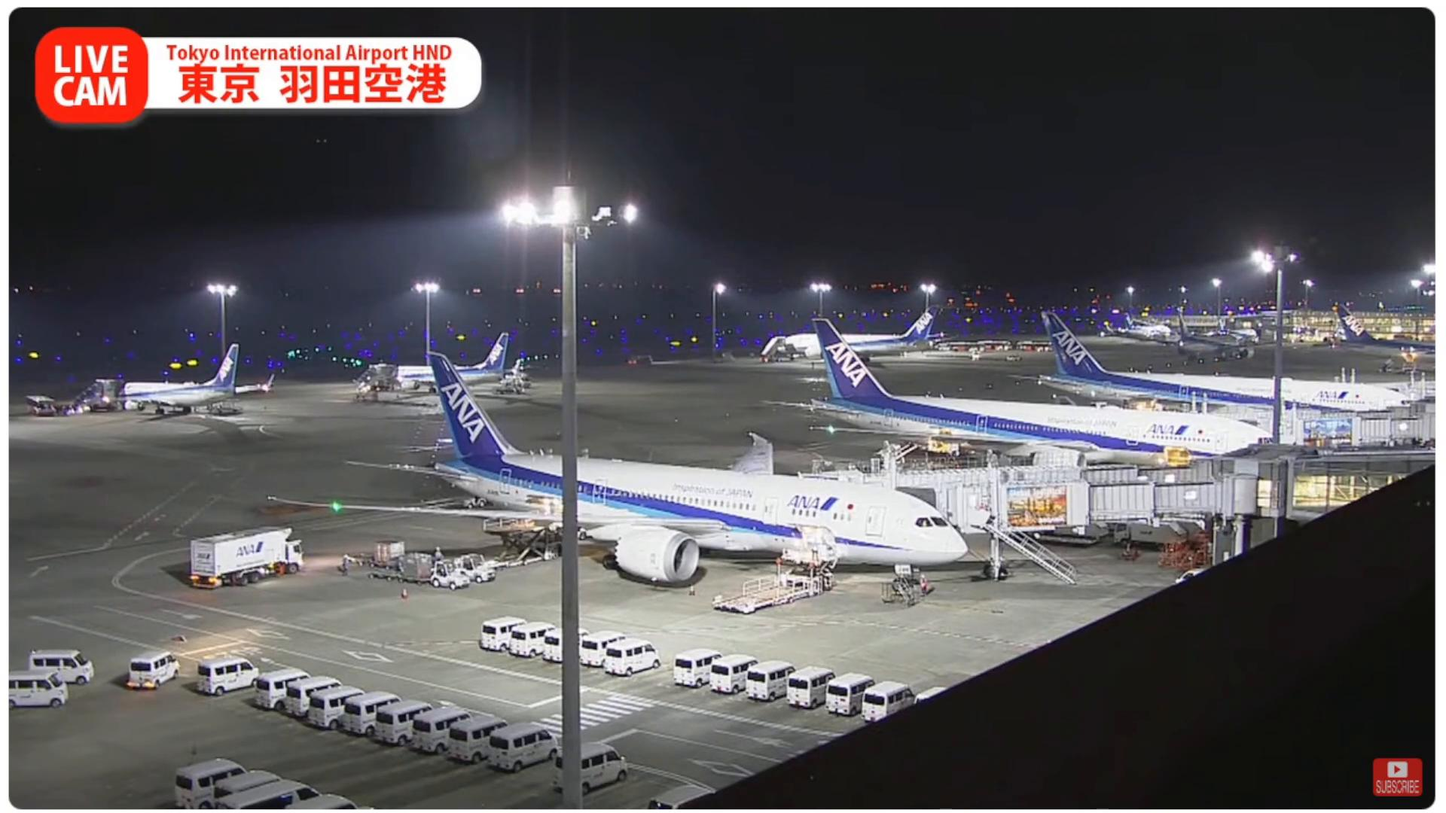Aerobridge: (895, 475, 1256, 534), (792, 456, 1224, 487)
Airplane: (270, 351, 971, 589)
Catering: (191, 524, 303, 589)
Dolly: (339, 553, 433, 574), (365, 568, 430, 585)
JCPL: (709, 552, 840, 613), (484, 527, 563, 568)
Tractor: (429, 558, 468, 590), (453, 554, 494, 582)
Window: (1290, 455, 1437, 521)
